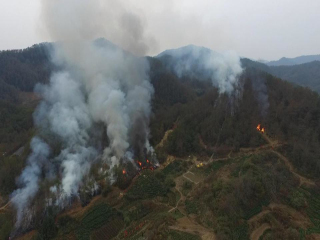smoke: (23, 5, 159, 201), (170, 40, 252, 97)
